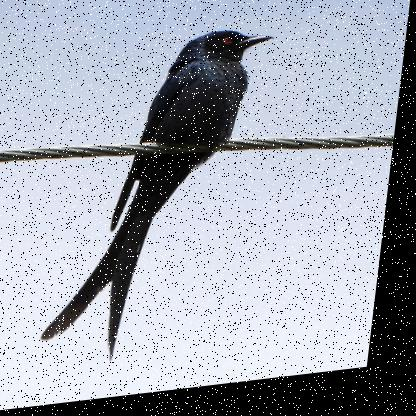Burung: (43, 31, 279, 375)
